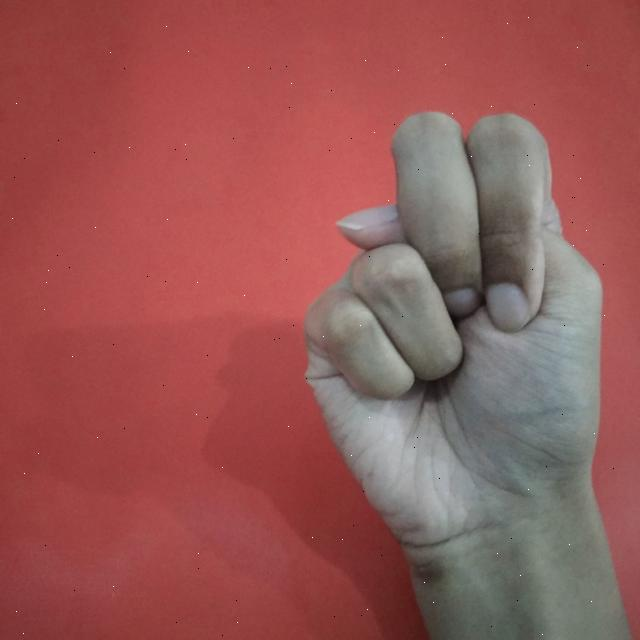N: (297, 104, 640, 640)
